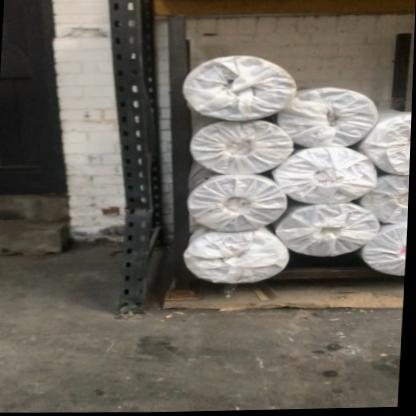vertical_damage: (116, 187, 161, 236)
